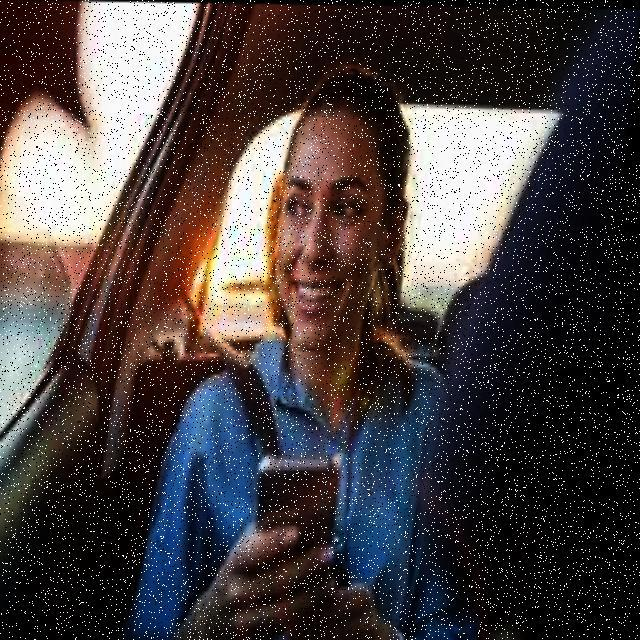seatbelt: (106, 286, 363, 624)
